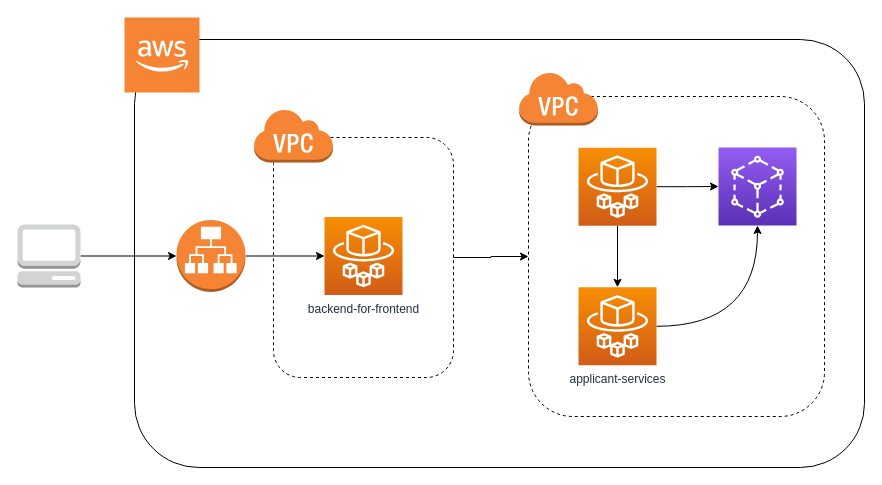
Image size: 882x485. Some labels were removed from this diagram. Here are the shapes that lost their labels. From the top down, the box of each, then its label:
(578, 147, 656, 226): job-services
(16, 224, 80, 288): Client
